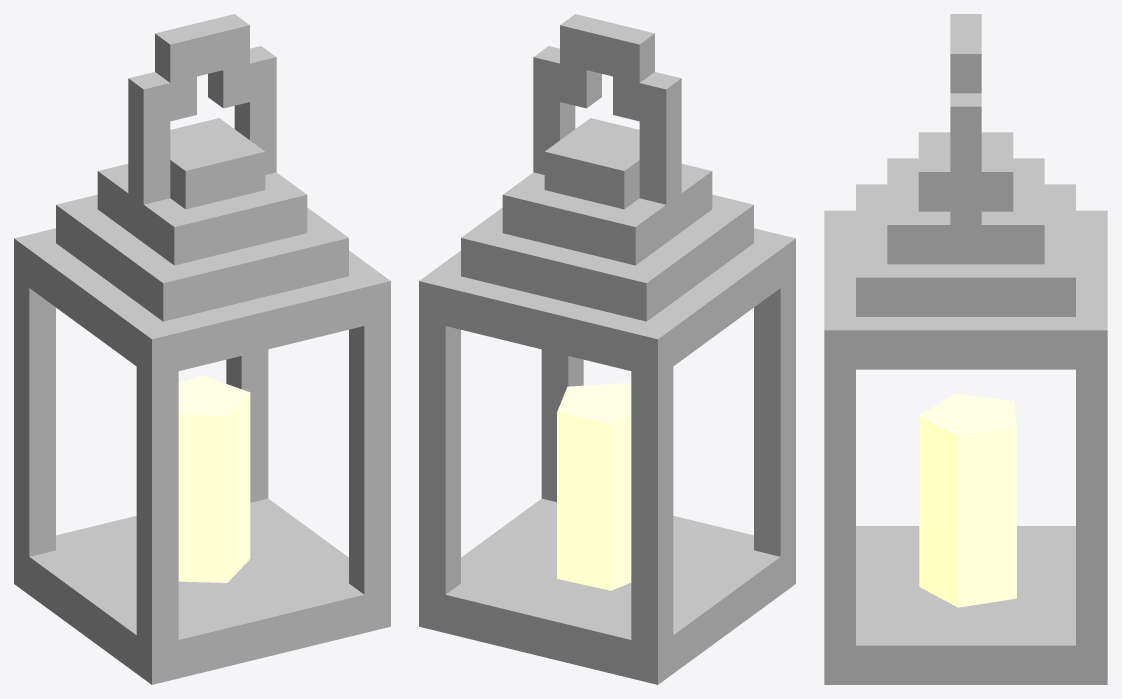
Rendered from latarnia.fbx.
The picture shows the model from 3 angles, left to right: view 1: azimuth 30°, elevation 25°; view 2: azimuth 150°, elevation 25°; view 3: azimuth 270°, elevation 25°; orthographic projection. The views are drawn at different scales.
Visible parts, largest first — view 1: Cube.026; view 2: Cube.026; view 3: Cube.026.
Part boxes in pixels (<box>): Cube.026: <box>14,14,390,684</box>; Cube.026: <box>419,14,795,684</box>; Cube.026: <box>824,14,1107,684</box>.
Bounding box in the file's own units: 54.41 × 125 × 54.41.
